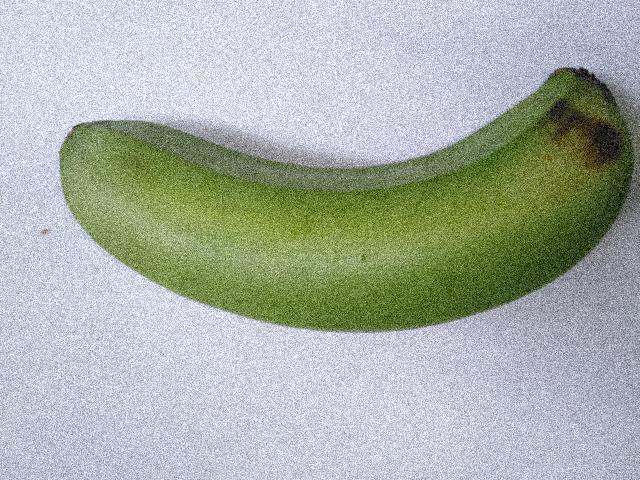freshunripe: (43, 46, 639, 357)
